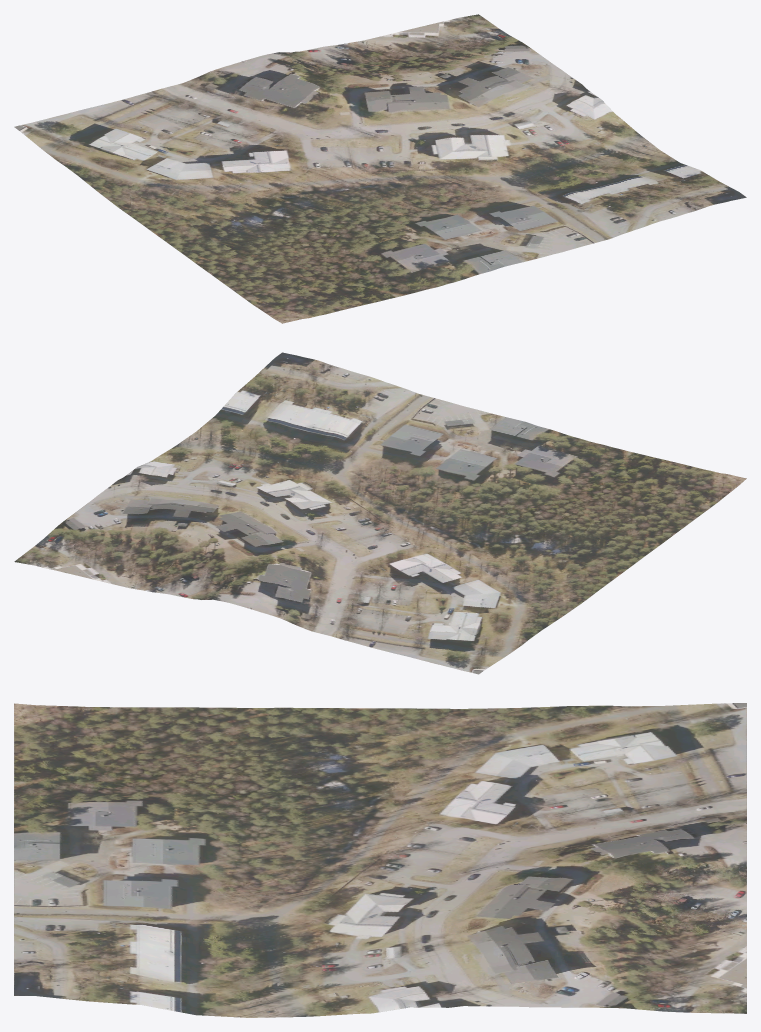
File: CM_Terrain_24491073_6817336.fbx
3 renders of one model, top to bottom at view 1: azimuth 30°, elevation 25°; view 2: azimuth 150°, elevation 25°; view 3: azimuth 270°, elevation 25°, orthographic. The views are drawn at different scales.
Visible parts, largest first — view 1: CM_Terrain_24491073_6817336_LOD0; view 2: CM_Terrain_24491073_6817336_LOD0; view 3: CM_Terrain_24491073_6817336_LOD0.
Part boxes in pixels (bbox=[...]): CM_Terrain_24491073_6817336_LOD0: bbox=[14, 14, 746, 323]; CM_Terrain_24491073_6817336_LOD0: bbox=[14, 352, 746, 674]; CM_Terrain_24491073_6817336_LOD0: bbox=[14, 703, 746, 1017].
Size of what is drawn, in the model's own units: 205 by 7.74 by 205.
